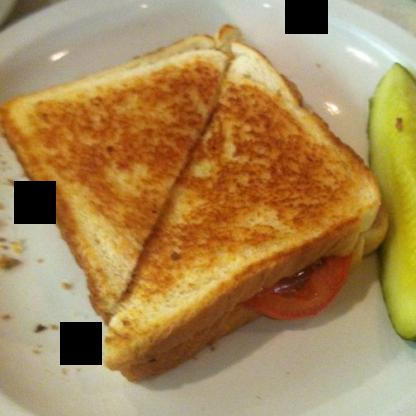cucumber: (369, 64, 415, 342)
toast bread: (0, 40, 372, 374)
